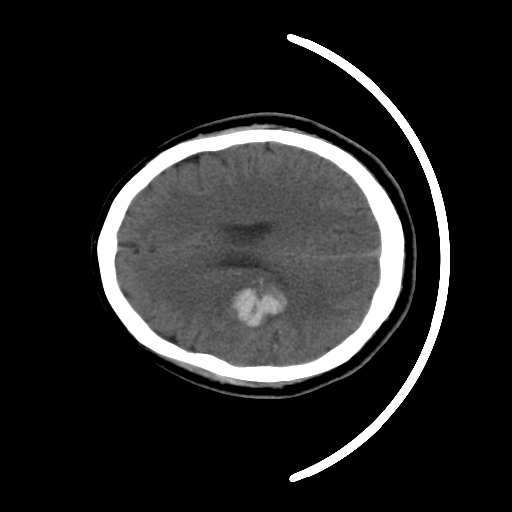a: (206, 263, 301, 339)
